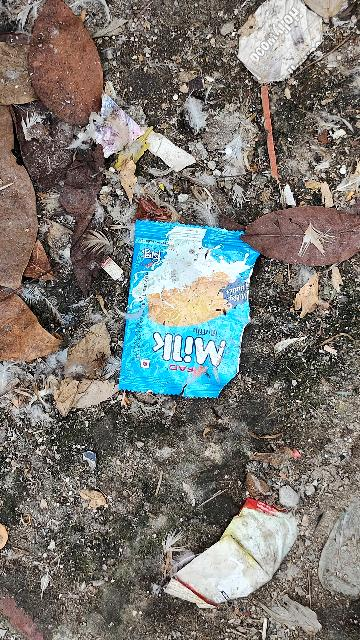packet: (119, 216, 267, 421), (156, 493, 305, 631)
